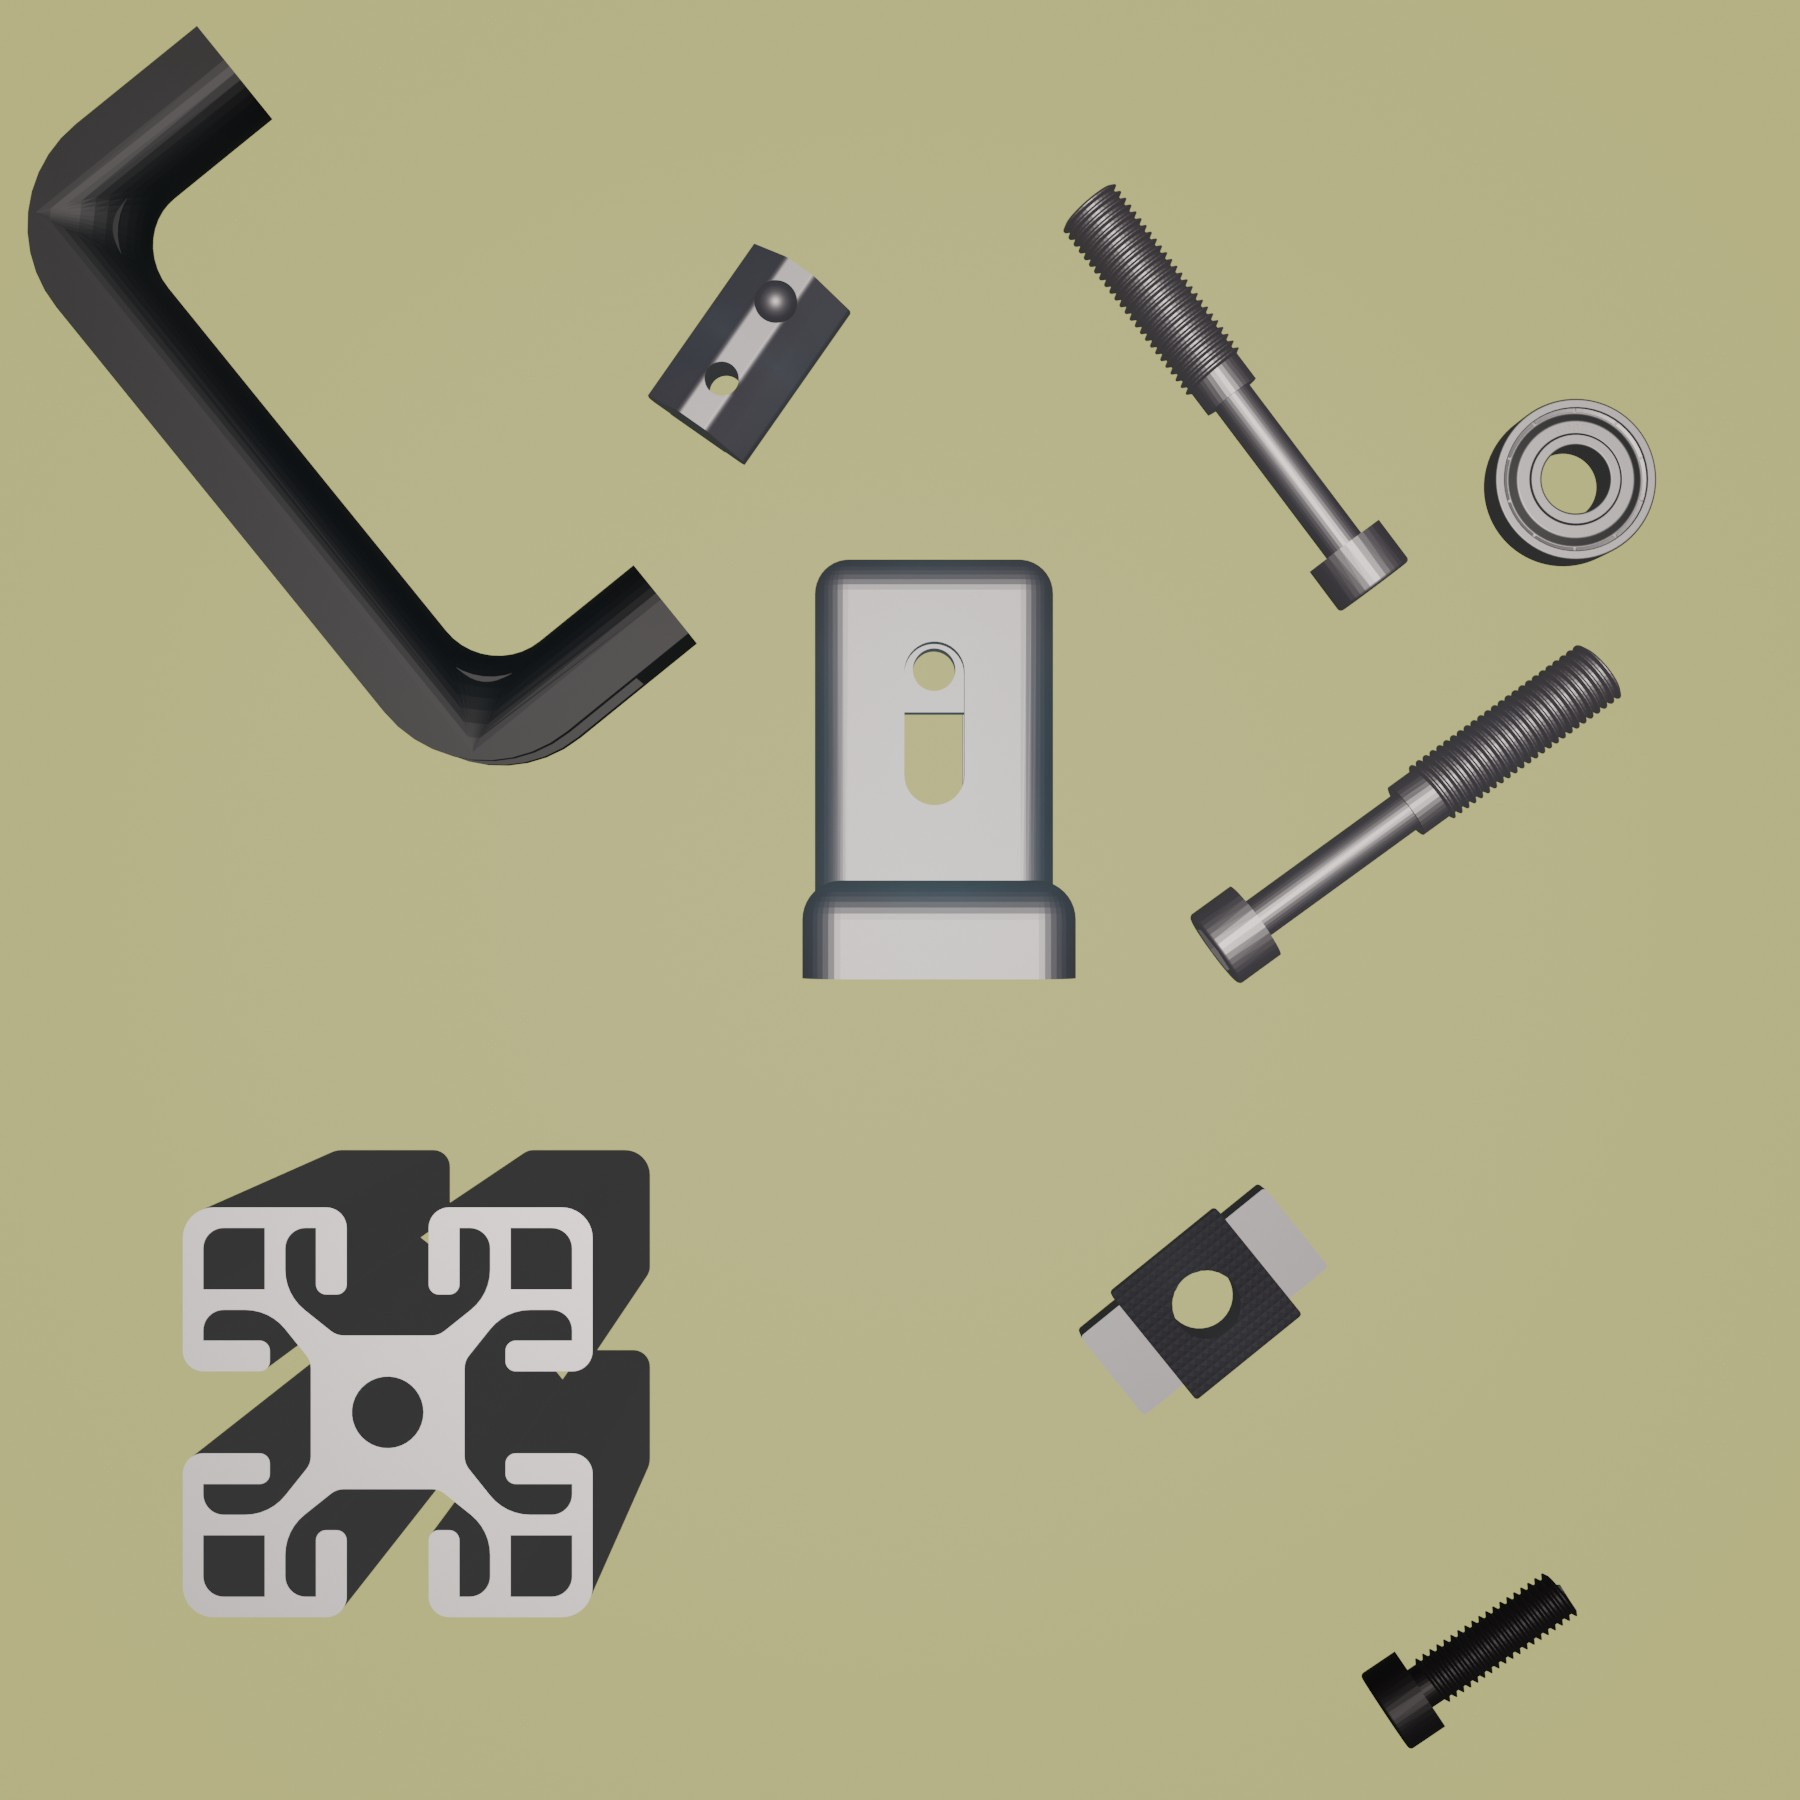Aluminium Extension: (178, 1146, 654, 1624)
Ball Bearing: (1479, 396, 1657, 569)
Multiwinkel: (803, 552, 1081, 986)
Pull Handle: (25, 21, 697, 766)
Shoulder Socket Head Cap Screw: (1058, 176, 1411, 615), (1188, 641, 1627, 986)
Socket Head Cap Screw: (1362, 1569, 1581, 1752)
T Nut Square: (1075, 1177, 1334, 1419)
T Spring Nut: (646, 239, 852, 470)
